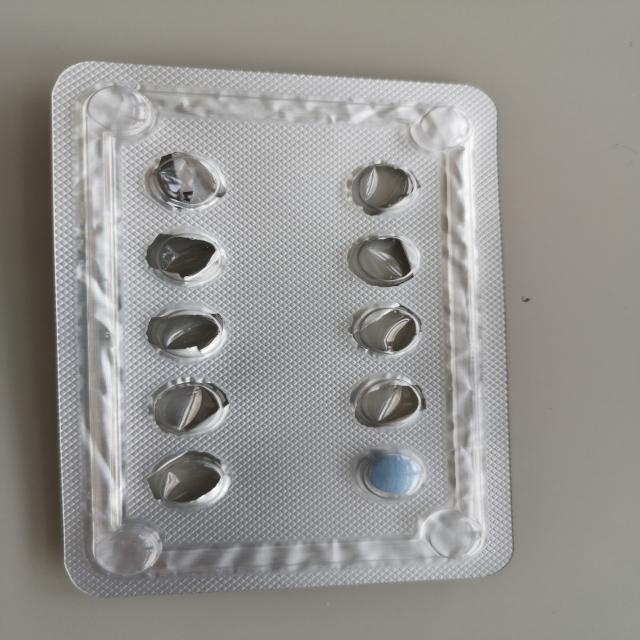Empty: (138, 448, 238, 512), (144, 375, 233, 438), (144, 150, 228, 214), (143, 301, 230, 361), (340, 229, 424, 288), (348, 372, 426, 434), (348, 302, 428, 360), (140, 228, 224, 283), (346, 158, 415, 219)
Pill: (359, 442, 425, 505)
